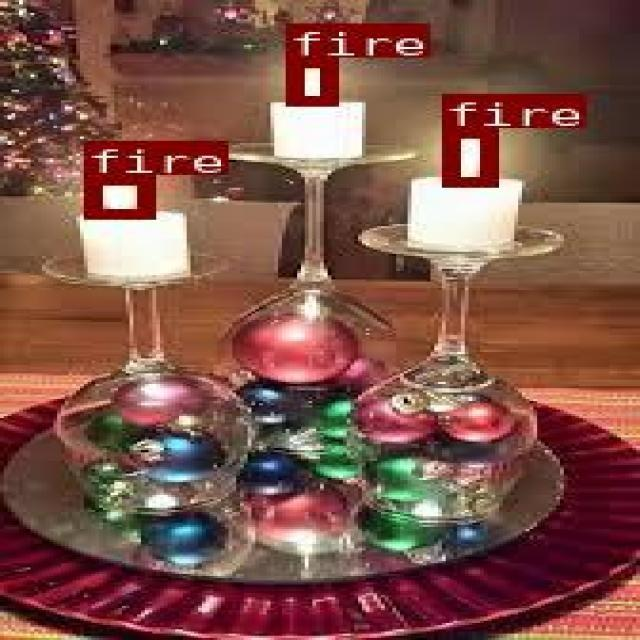fire: (439, 127, 492, 186), (84, 173, 152, 216), (284, 58, 335, 105)
